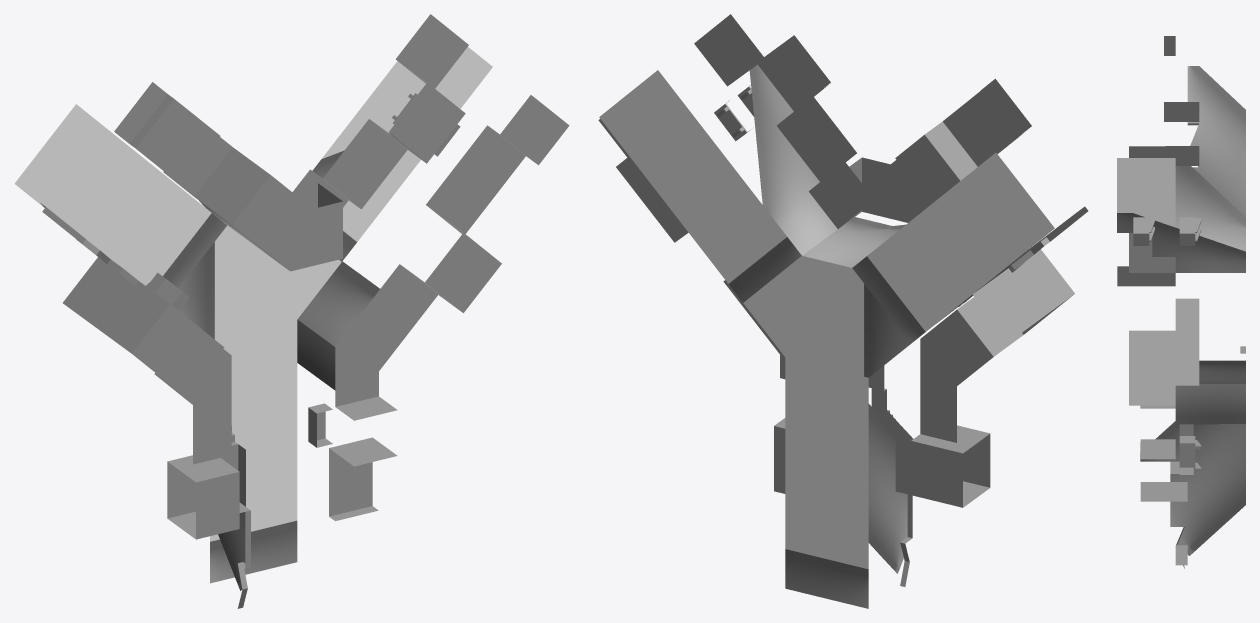
File: corridor.obj
The picture shows the model from 3 angles, left to right: view 1: azimuth 30°, elevation 25°; view 2: azimuth 150°, elevation 25°; view 3: azimuth 270°, elevation 25°; orthographic projection. The views are drawn at different scales.
Visible parts, largest first — view 1: Materials__Stucco, Materials__Floor, Materials__Facade, Materials__Balustrade; view 2: Materials__Floor, Materials__Stucco, Materials__Facade; view 3: Materials__Facade, Materials__Stucco, Materials__Balustrade.
Boxes of the visible parts, box(x1,y1,x2,y2) form: Materials__Stucco: box(42, 14, 569, 608); Materials__Floor: box(14, 47, 492, 583); Materials__Facade: box(40, 133, 426, 590); Materials__Balustrade: box(147, 124, 460, 506); Materials__Floor: box(599, 70, 1054, 608); Materials__Stucco: box(598, 14, 1088, 586); Materials__Facade: box(749, 65, 1083, 573); Materials__Facade: box(1117, 66, 1245, 555); Materials__Stucco: box(1117, 36, 1245, 568); Materials__Balustrade: box(1133, 217, 1193, 474).
Bounding box in the file's own units: 47.73 × 48.36 × 11.03.
